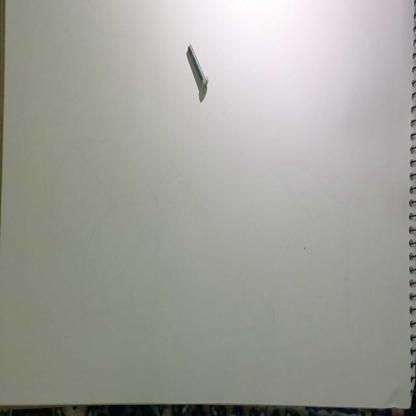Bolts: (186, 42, 212, 99)
